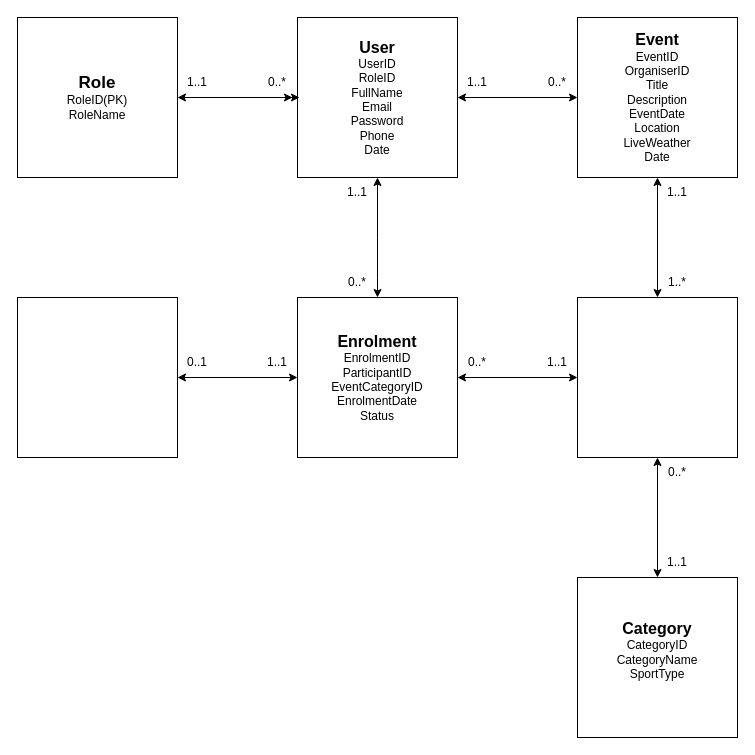
Image size: 755x755. Some labels were removed from this diagram. The centre of each missing label's shape, as x and y in pixels:
EventCategory EventCategoryID EventID CategoryID EntryFee MaxCapacity: [657,377]
Result ResultID EnrolmentID FinishTime OverallPosition Date: [97,377]
